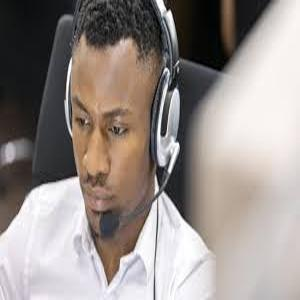Headphones: (62, 1, 183, 169)
